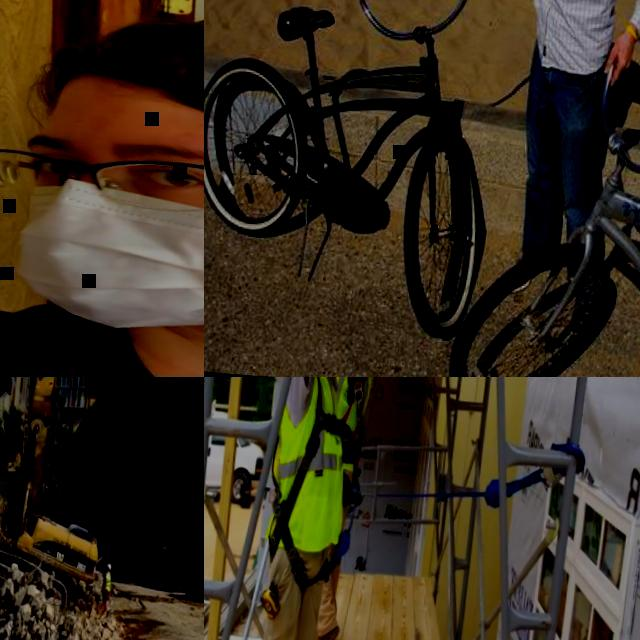helmet: (107, 564, 113, 572)
machinery: (0, 377, 146, 604)
mask: (9, 171, 204, 350)
no_helmet: (35, 1, 204, 167)
no_vest: (0, 300, 204, 377)
person: (0, 0, 204, 377), (446, 0, 640, 302), (244, 377, 374, 640), (299, 377, 388, 640), (100, 563, 114, 615)
vehicle: (204, 392, 269, 511)
vest: (267, 377, 358, 554), (523, 0, 626, 78), (326, 377, 374, 471), (105, 572, 113, 594)
